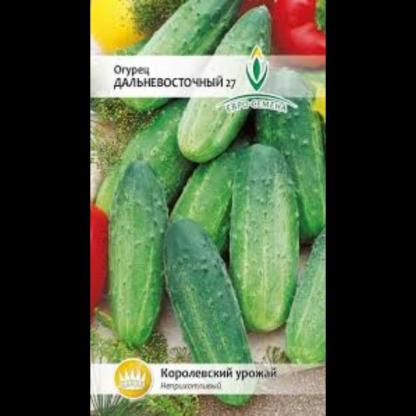cucumber: (150, 202, 259, 388), (221, 135, 306, 349), (182, 0, 270, 179), (89, 82, 193, 229), (92, 147, 168, 342), (113, 0, 226, 109), (257, 63, 325, 238), (285, 191, 325, 378)
